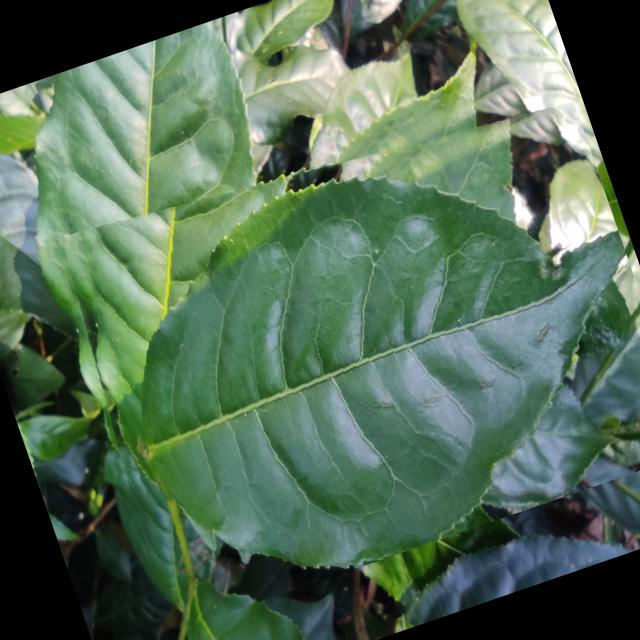Category D(7+ days, Not for Tea): (35, 62, 640, 631)
